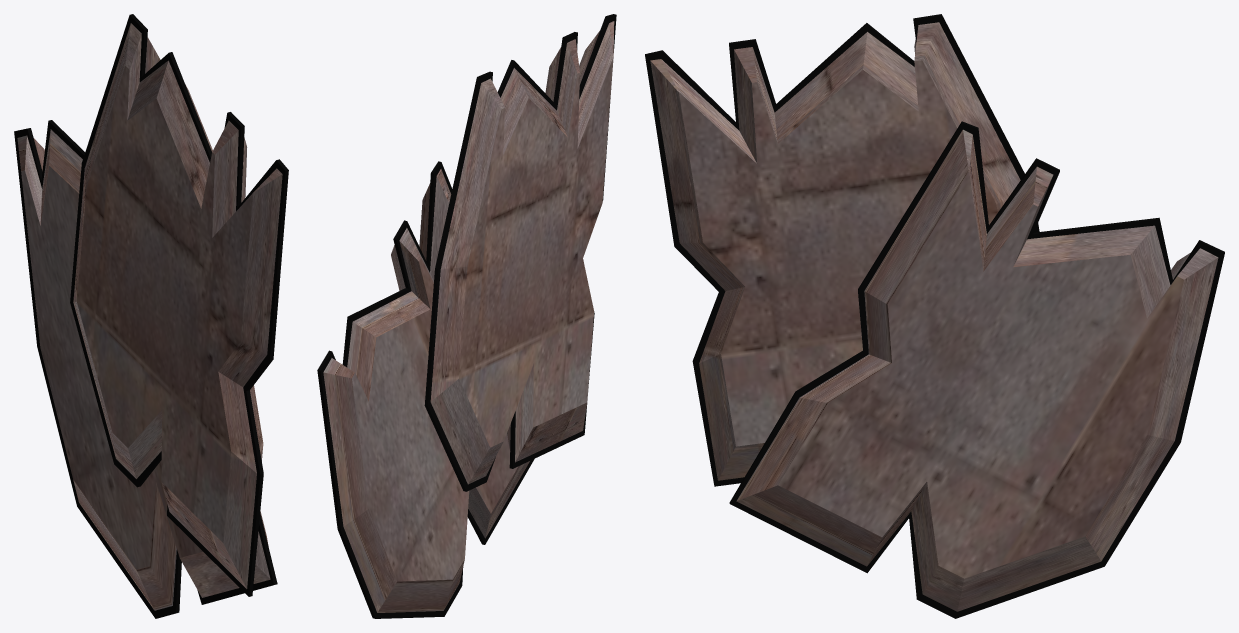
The model's file is MetalShards.fbx.
The picture shows the model from 3 angles, left to right: view 1: azimuth 30°, elevation 25°; view 2: azimuth 150°, elevation 25°; view 3: azimuth 270°, elevation 25°; orthographic projection. The views are drawn at different scales.
Parts seen in each view (by area): view 1: Cube, Cube.001; view 2: Cube, Cube.001; view 3: Cube.001, Cube.
Part boxes in pixels (x1,y1,x2,y2): Cube: [70, 14, 288, 596]; Cube.001: [14, 120, 277, 618]; Cube: [424, 14, 616, 491]; Cube.001: [317, 161, 534, 618]; Cube.001: [729, 121, 1224, 618]; Cube: [645, 14, 1039, 486].
Size of the model in its own units: 34.89 by 315 by 281.
